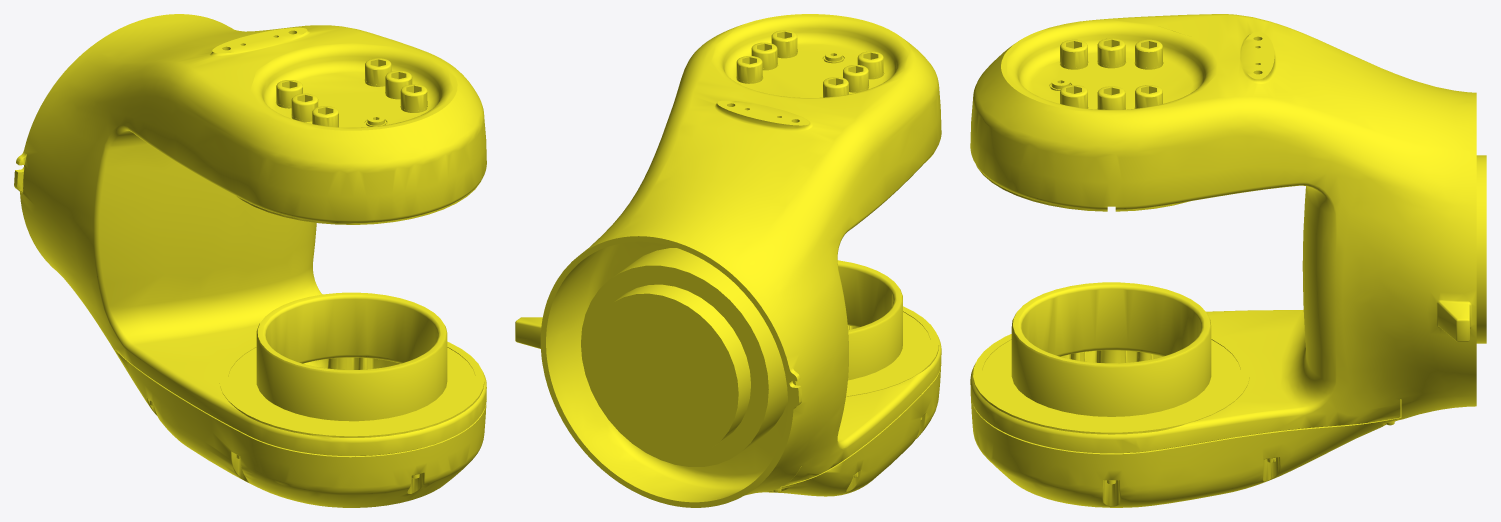
The picture shows the model from 3 angles, left to right: view 1: azimuth 30°, elevation 25°; view 2: azimuth 150°, elevation 25°; view 3: azimuth 270°, elevation 25°; orthographic projection. The views are drawn at different scales.
Parts seen in each view (by area): view 1: /Link1/Link1_002-mesh/0; view 2: /Link1/Link1_002-mesh/0; view 3: /Link1/Link1_002-mesh/0.
Part boxes in pixels (x1=…): /Link1/Link1_002-mesh/0: x1=14, y1=14, x2=486, y2=507; /Link1/Link1_002-mesh/0: x1=515, y1=14, x2=941, y2=507; /Link1/Link1_002-mesh/0: x1=970, y1=14, x2=1486, y2=507.
Bounding box in the file's own units: 0.2679 × 0.3267 × 0.3875.
